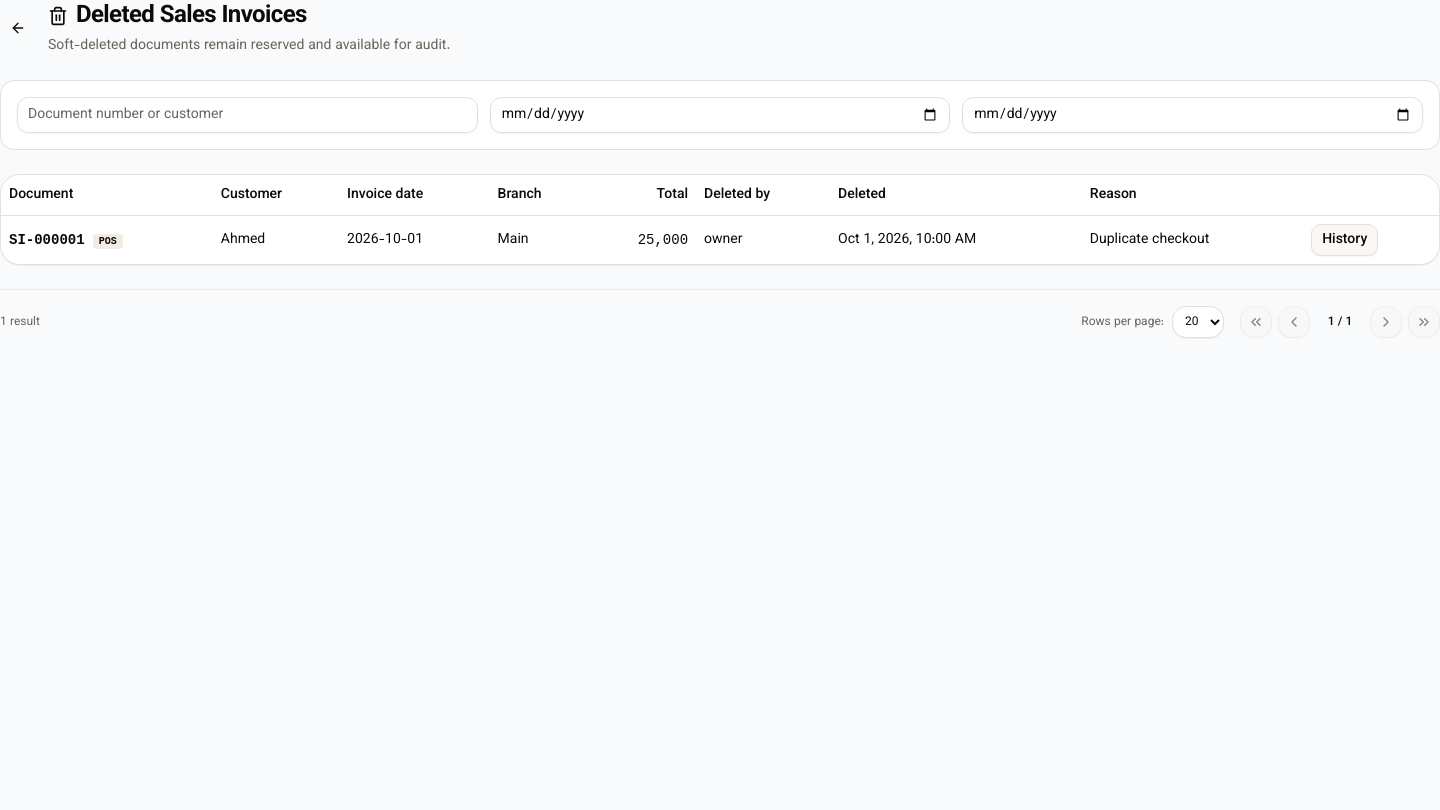
Test case: DeletedSalesInvoicesPage › shows the history source label for POS settlement activity
What coordinates should you click on to do the following:
click the button "History"
I would click on:
 (1345, 240)
Its box is [1311,224,1378,256].
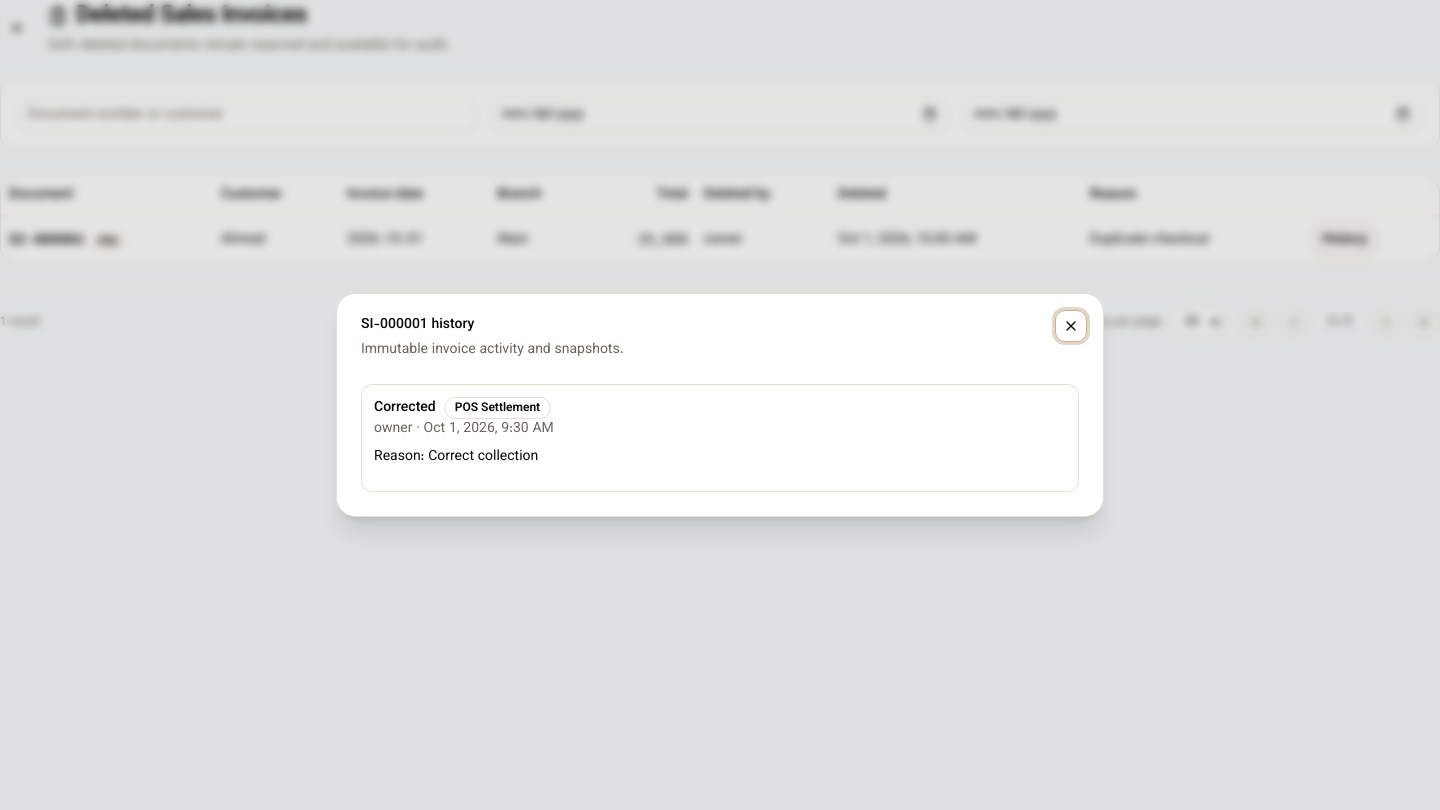
Result: the text "POS Settlement" is shown at [444,397,551,419]
Result: the text "Reason: Correct collection" is shown at [374,446,538,468]
